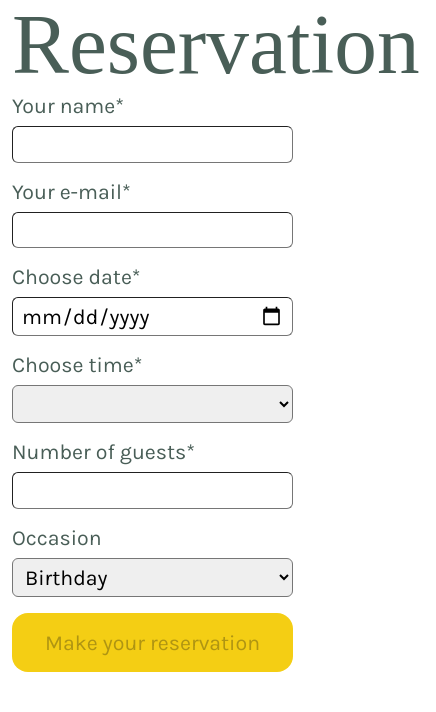
Test: ReservationForm › signals invalid email
Step 1. Type "invalidmail" into the field labelled "Your e-mail*" → (152, 230), box [12,212,293,248]
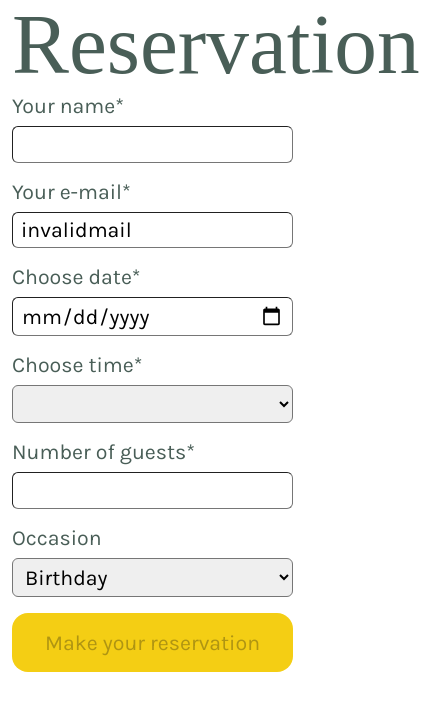
Step 2. Leave the field labelled "Your e-mail*", box [12,212,293,248]
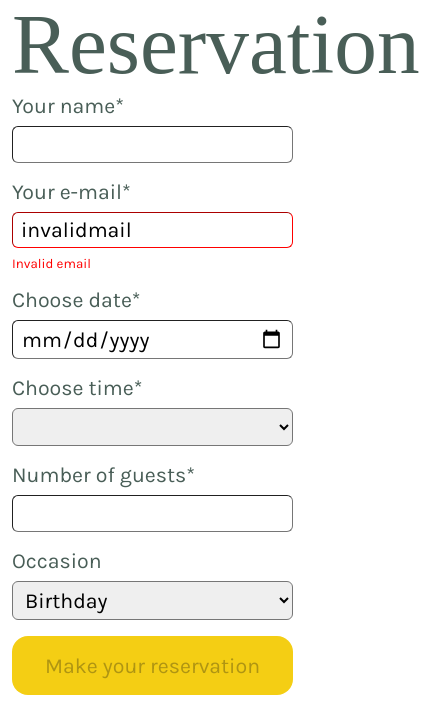
Expected: the text "Invalid email" is shown, [12,256,91,271]
